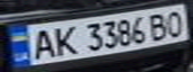3: (81, 20, 106, 52), (100, 17, 121, 50)
6: (130, 14, 151, 45)
8: (115, 16, 136, 47)
A: (24, 26, 60, 61)
B: (145, 10, 172, 42)
K: (48, 24, 81, 56)
O: (163, 8, 190, 38)
